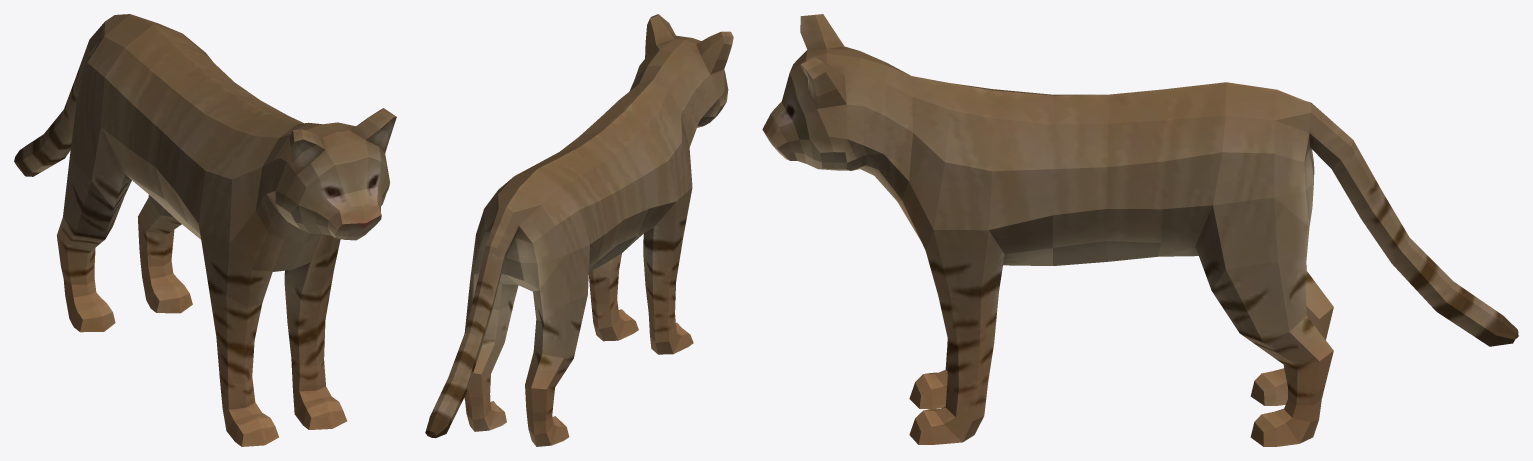
Rendered from nature-arabian-wildcat-239.glb.
3 renders of one model, left to right at view 1: azimuth 30°, elevation 25°; view 2: azimuth 150°, elevation 25°; view 3: azimuth 270°, elevation 25°, orthographic. The views are drawn at different scales.
Parts seen in each view (by area): view 1: ArabianWildcat_mesh; view 2: ArabianWildcat_mesh; view 3: ArabianWildcat_mesh.
Part boxes in pixels (<box>): ArabianWildcat_mesh: <box>14,14,396,446</box>; ArabianWildcat_mesh: <box>425,14,733,446</box>; ArabianWildcat_mesh: <box>762,14,1518,446</box>.
Size of the model in its own units: 0.8993 by 2.36 by 4.24.
Materials: 1 (1 with a texture image).
